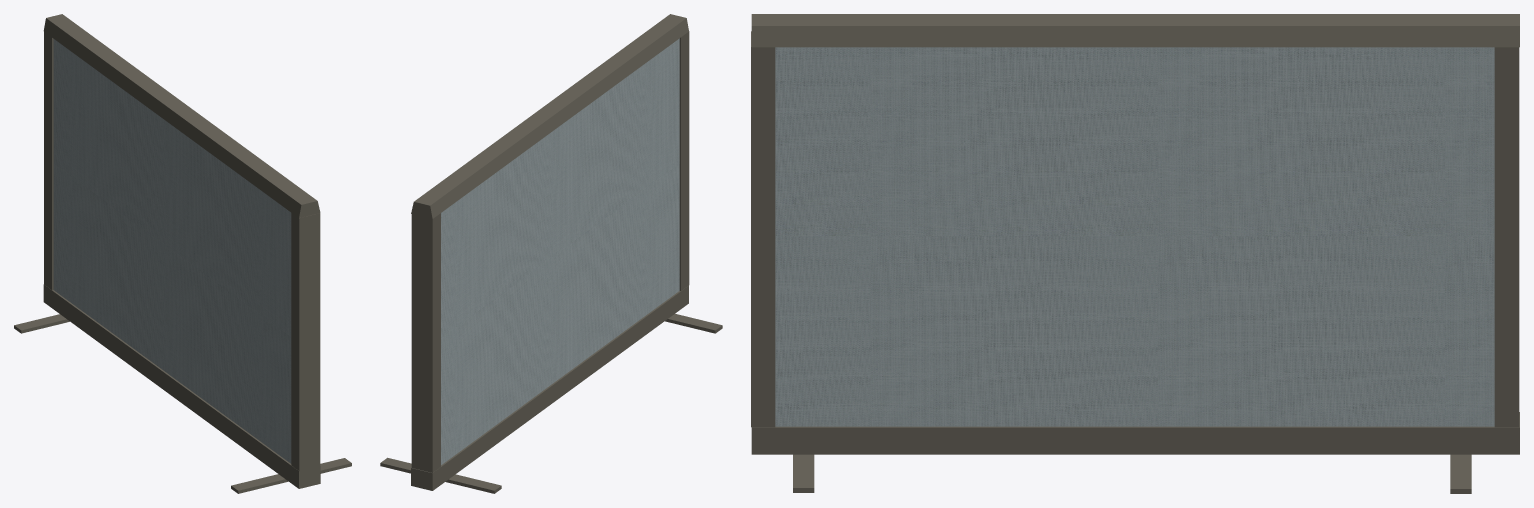
File: OfficeDivider_02.DAE
3 renders of one model, left to right at view 1: azimuth 30°, elevation 25°; view 2: azimuth 150°, elevation 25°; view 3: azimuth 270°, elevation 25°, orthographic. The views are drawn at different scales.
Parts seen in each view (by area): view 1: OfficeDividerTwo300; view 2: OfficeDividerTwo300; view 3: OfficeDividerTwo300.
Boxes of the visible parts, x1,y1,x2,y2 form: OfficeDividerTwo300: (14, 14, 351, 493); OfficeDividerTwo300: (380, 14, 722, 493); OfficeDividerTwo300: (751, 14, 1519, 493).
Size of what is drawn, in the model's own units: 64.06 by 246 by 153.
